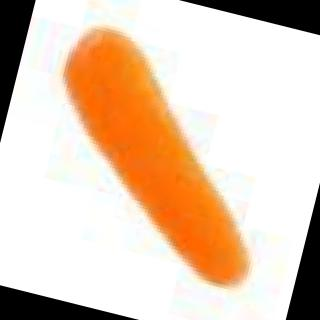Wortel: (1, 2, 319, 317)
